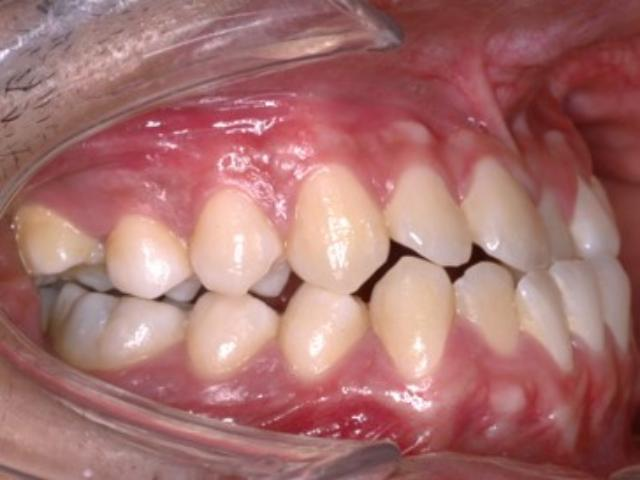canine class III 1/4: (278, 157, 456, 401)
